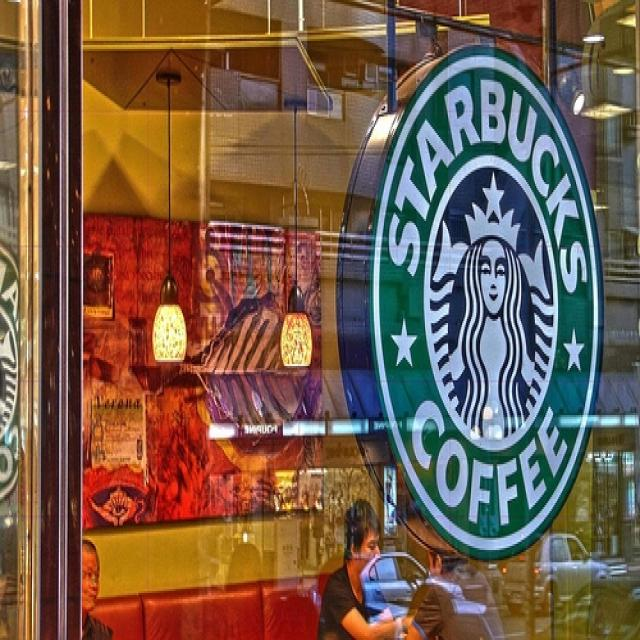starbucks: (371, 50, 604, 555)
